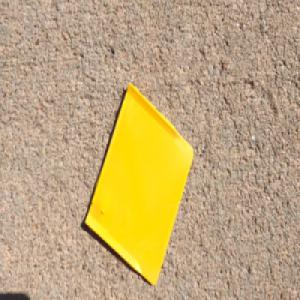PlasticPart: (83, 79, 194, 286)
